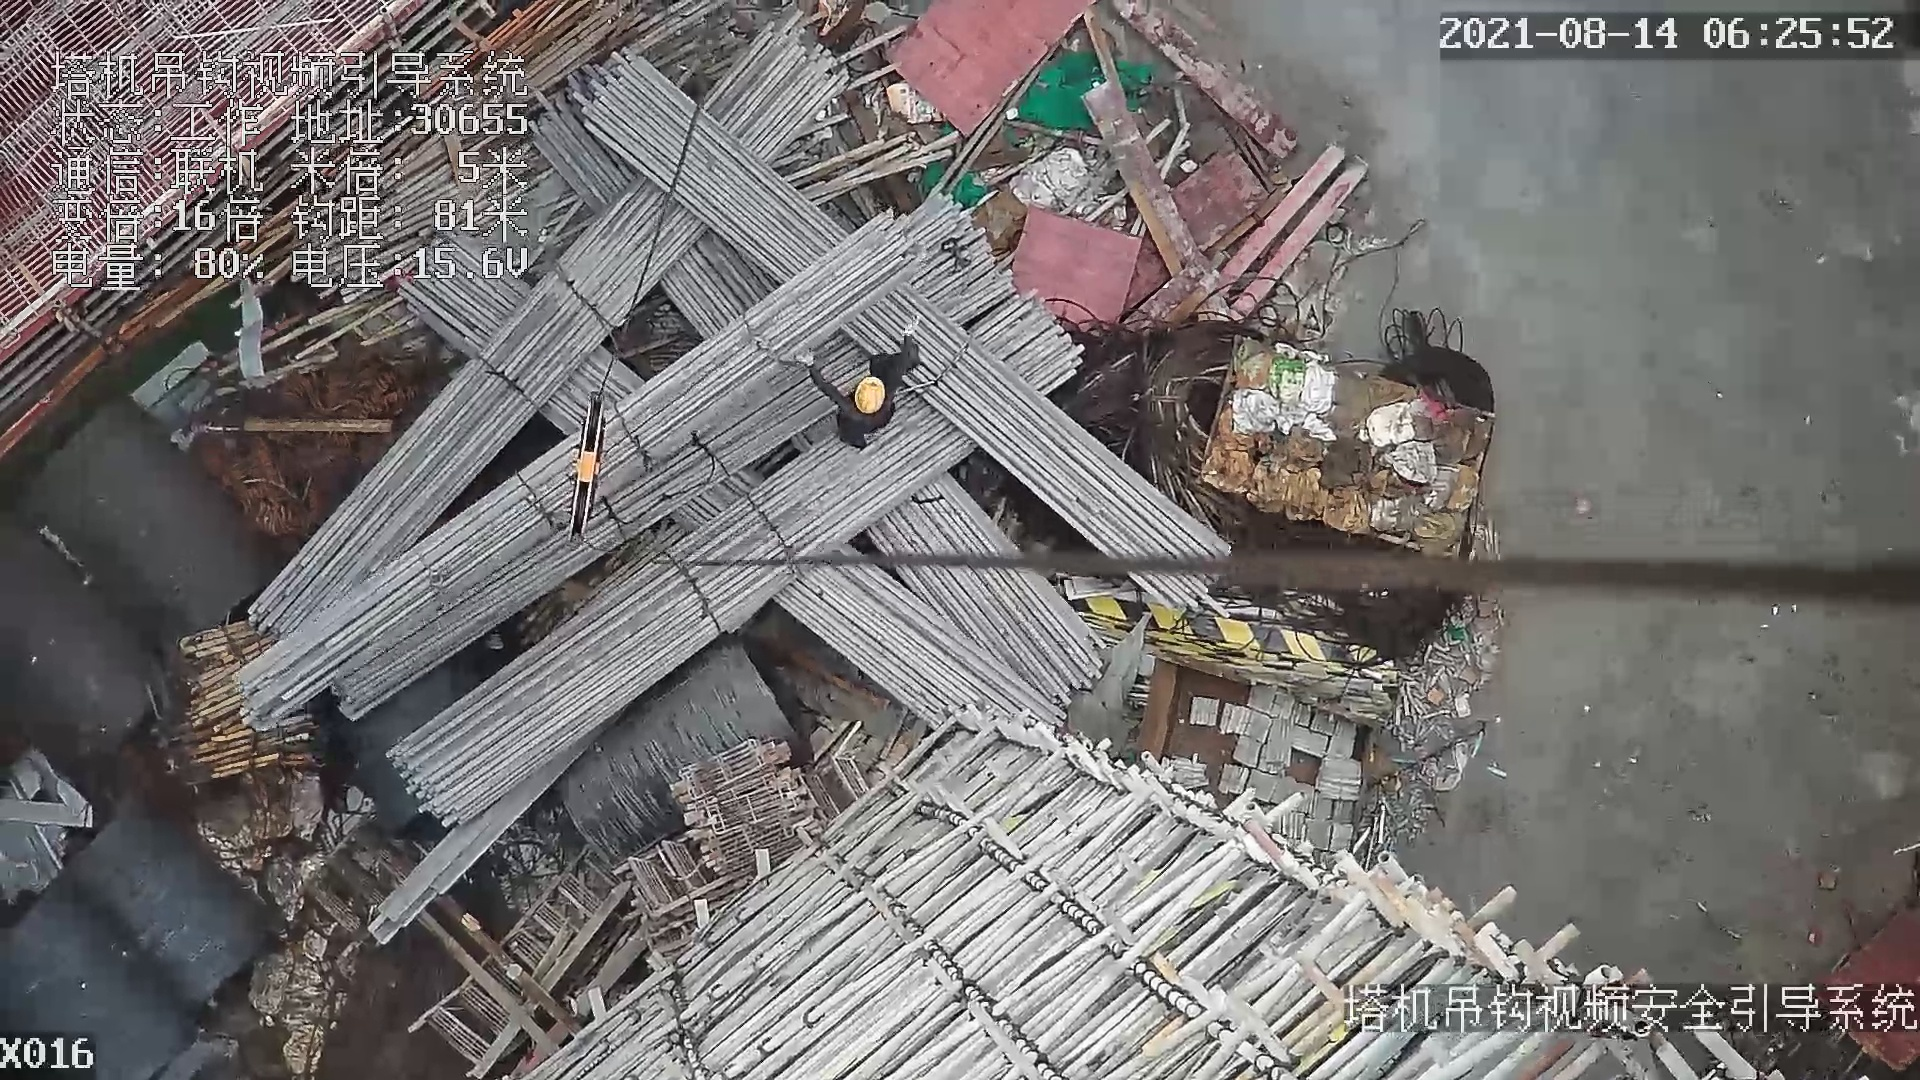helmet: (851, 372, 895, 417)
hook: (553, 389, 614, 546)
person: (791, 328, 929, 450)
